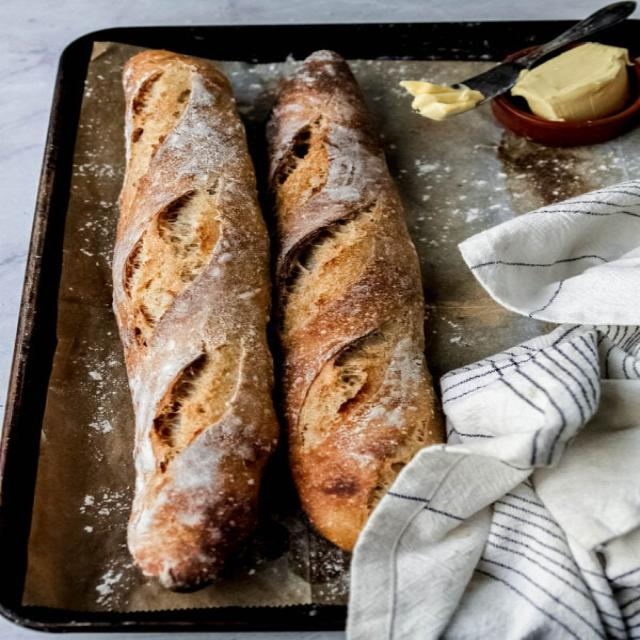Baguette: (112, 50, 278, 590), (268, 51, 442, 550)
